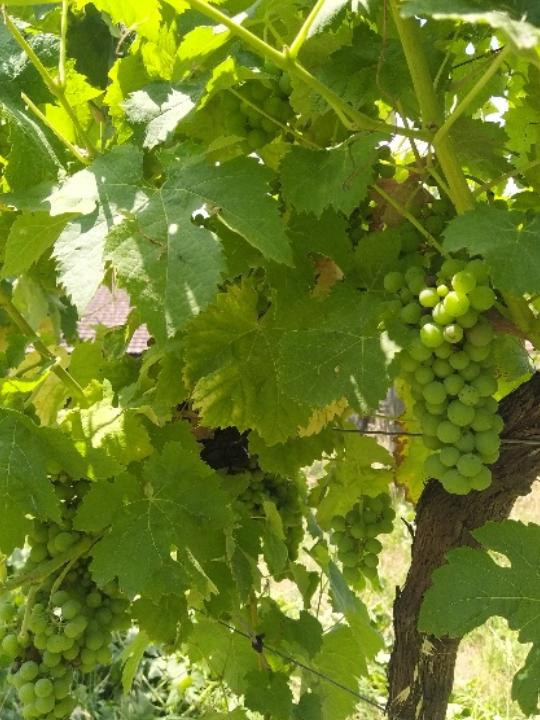grape: (380, 258, 507, 499), (0, 588, 90, 720)
